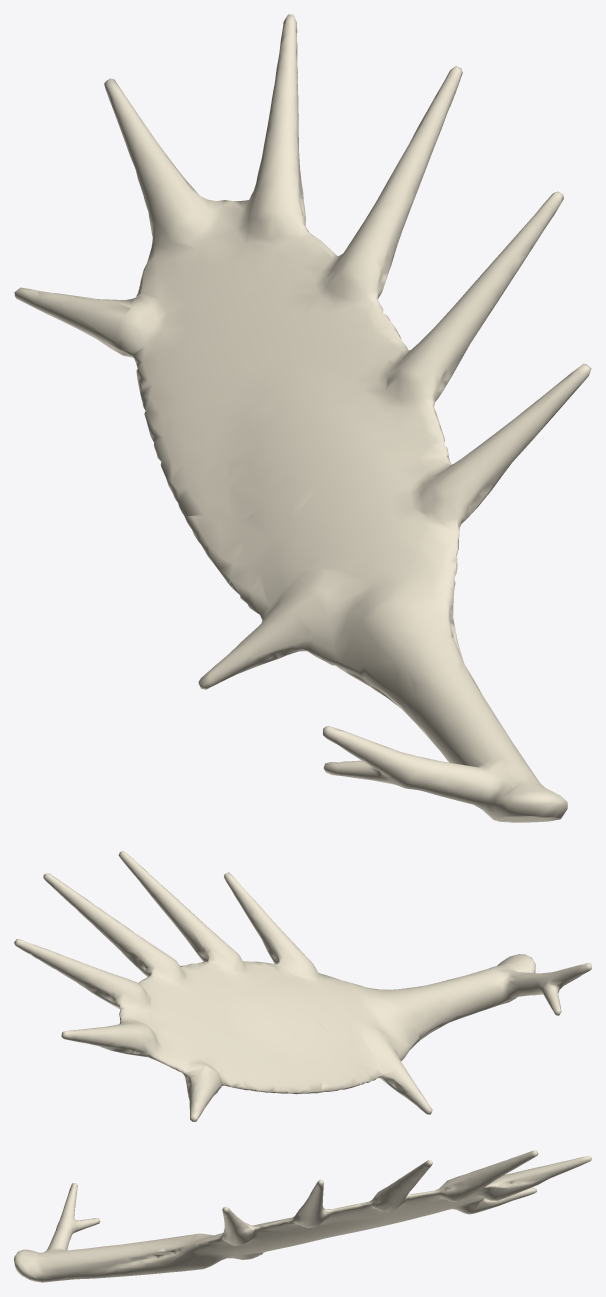
Rendered from antler_r.glb.
3 views of the same model, one above another, from view 1: azimuth 30°, elevation 25°; view 2: azimuth 150°, elevation 25°; view 3: azimuth 270°, elevation 25° (orthographic). The views are drawn at different scales.
Visible parts, largest first — view 1: geometry_0; view 2: geometry_0; view 3: geometry_0.
Boxes of the visible parts, x1=… form: geometry_0: x1=14, y1=14, x2=591, y2=822; geometry_0: x1=14, y1=851, x2=591, y2=1121; geometry_0: x1=14, y1=1150, x2=591, y2=1282.
Size of the model in its own units: 1.23 by 0.953 by 2.5.
